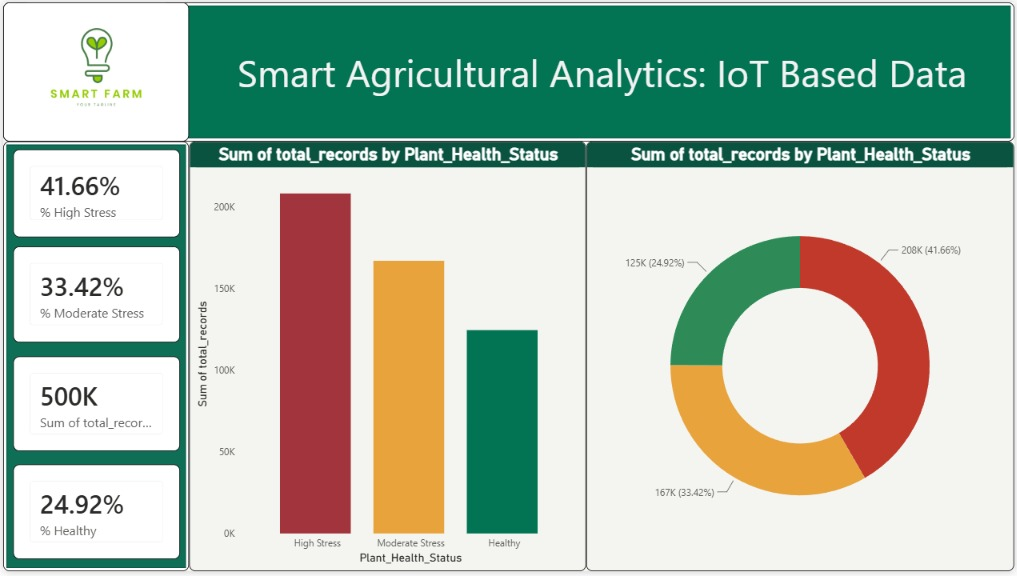

Layout of this report page (visuals, bound fields, positions):
{"tool":"powerbi","page":{"name":"Overview","canvas":[1280,720],"ordinal":0},"visuals":[{"type":"shape","box":[0,0,1279.7,175.9],"z":0},{"type":"image","box":[0,0,235.4,175.9],"z":1000},{"type":"shape","box":[0,175.9,235.4,544.3],"z":1500},{"type":"cardVisual","fields":{"Data":["Sum(Dim_HealthStatus.total_records)"]},"box":[12.7,582.3,211.4,120.3],"z":2000},{"type":"cardVisual","fields":{"Data":["_Measures.% High Stress"]},"box":[12.7,186.1,211.4,111.4],"z":3000},{"type":"cardVisual","fields":{"Data":["_Measures.% Healthy"]},"box":[11.4,448.1,211.4,120.3],"z":4000},{"type":"donutChart","title":"Health status split","fields":{"Category":["Dim_HealthStatus.Plant_Health_Status"],"Y":["Sum(Dim_HealthStatus.total_records)"]},"box":[738,175.9,541.8,544.3],"z":5000},{"type":"columnChart","title":"Avg soil moisture by health status","fields":{"Y":["Sum(Dim_HealthStatus.total_records)"],"Category":["Dim_HealthStatus.Plant_Health_Status"]},"box":[235.4,175.9,502.5,544.3],"z":6000},{"type":"cardVisual","fields":{"Data":["_Measures.% Moderate Stress"]},"box":[11.4,312.7,211.4,121.5],"z":7000},{"type":"textbox","box":[274.7,50.6,967.1,75.9],"z":8000}]}

Visuals, with their boxes in screenshot pixels (x1, y1, x2, y2), scaled from the page's 1280x720 canvas onto the 1017x576 screenshot:
shape: rect(0, 0, 1016, 141)
image: rect(0, 0, 187, 141)
shape: rect(0, 141, 187, 575)
cardVisual - Sum(Dim_HealthStatus.total_records): rect(10, 466, 178, 562)
cardVisual - _Measures.% High Stress: rect(10, 149, 178, 238)
cardVisual - _Measures.% Healthy: rect(9, 358, 177, 455)
"Health status split" donutChart: rect(586, 141, 1016, 575)
"Avg soil moisture by health status" columnChart: rect(187, 141, 586, 575)
cardVisual - _Measures.% Moderate Stress: rect(9, 250, 177, 347)
textbox: rect(218, 40, 987, 101)
